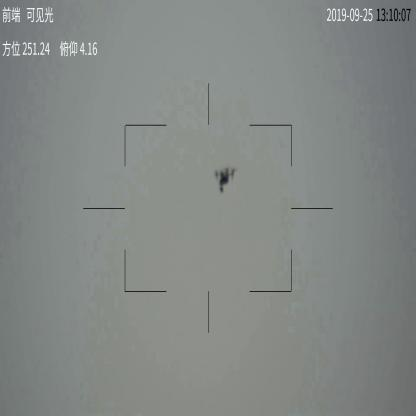uav: (213, 166, 237, 195)
